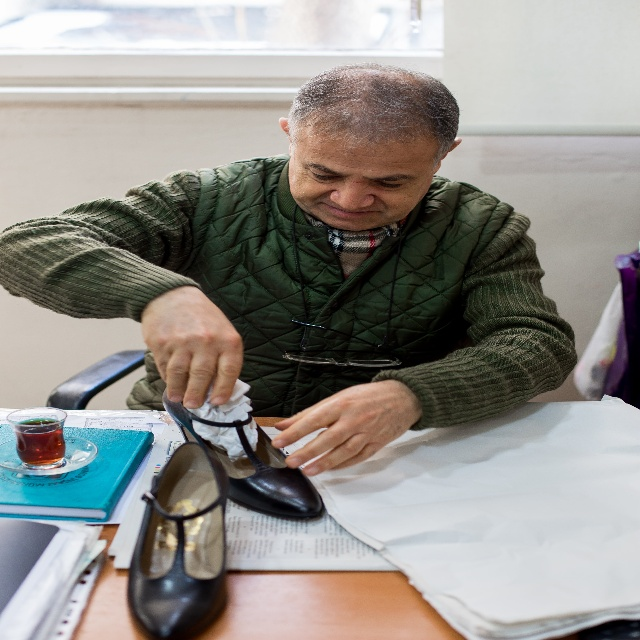Sin_guantes: (271, 379, 411, 480), (140, 281, 243, 411)
